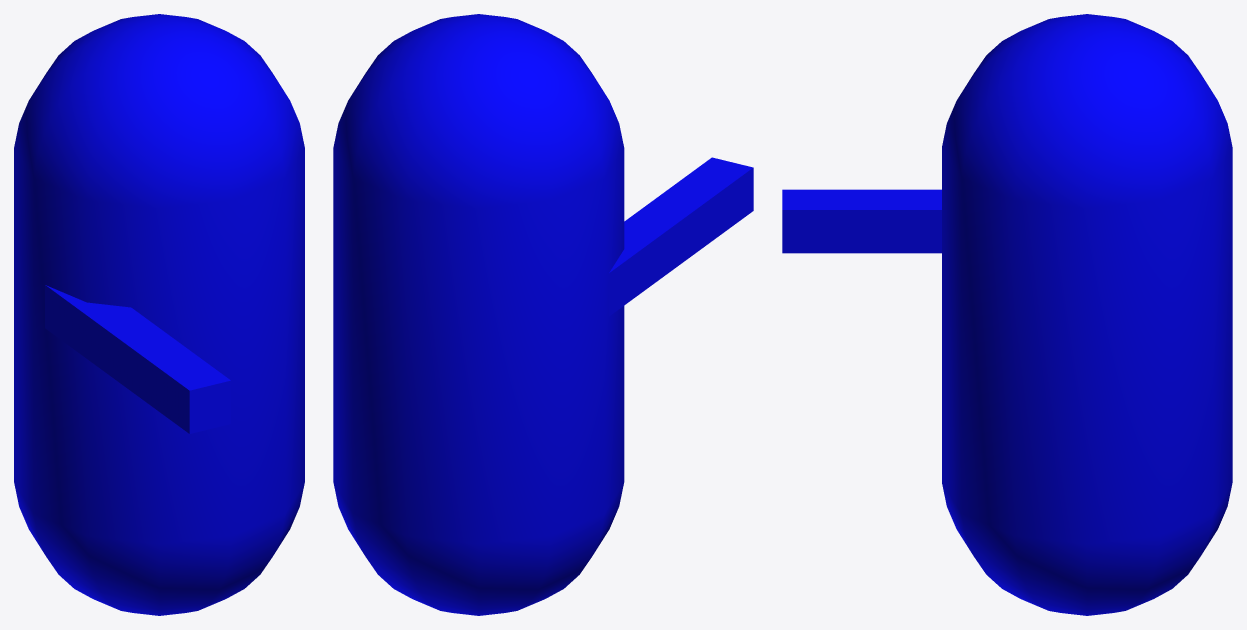
The model's file is enemy.fbx.
The picture shows the model from 3 angles, left to right: view 1: azimuth 30°, elevation 25°; view 2: azimuth 150°, elevation 25°; view 3: azimuth 270°, elevation 25°; orthographic projection.
Visible parts, largest first — view 1: Sphere.001, Cube.001; view 2: Sphere.001, Cube.001; view 3: Sphere.001, Cube.001.
Part boxes in pixels (box(x1,y1,x2,y2)): Sphere.001: box(14, 14, 304, 615); Cube.001: box(45, 285, 230, 433); Sphere.001: box(333, 14, 624, 615); Cube.001: box(609, 157, 753, 316); Sphere.001: box(942, 14, 1232, 615); Cube.001: box(782, 189, 941, 253).
Size of the model in its own units: 67.82 by 148 by 105.
